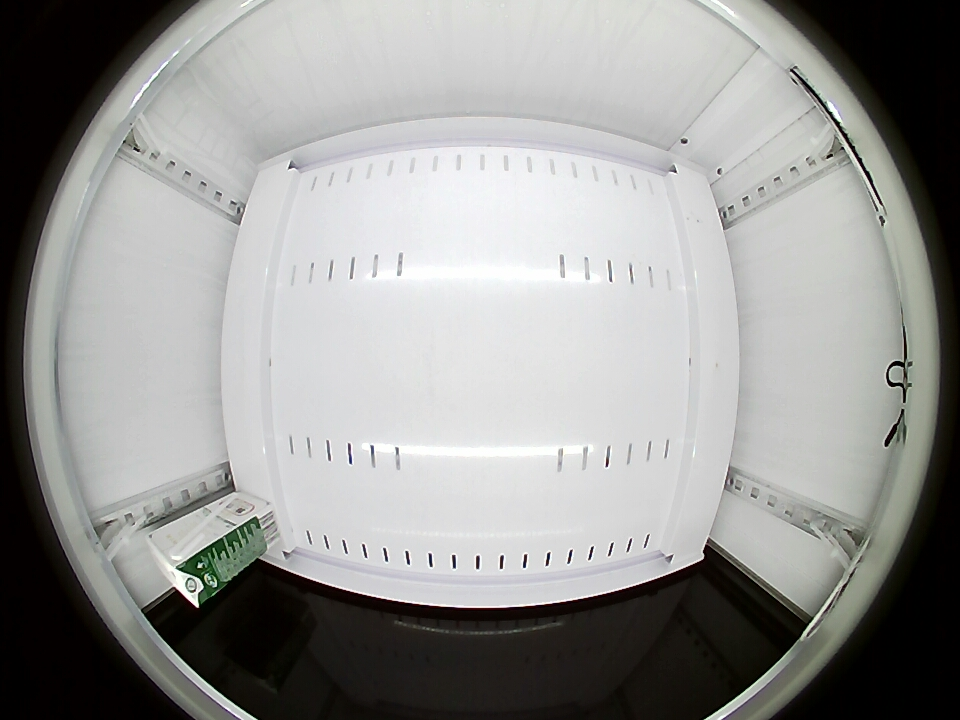jindian: (146, 521, 223, 609)
